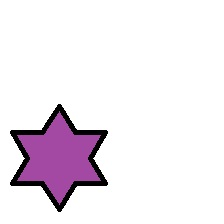star: (10, 104, 108, 212)
